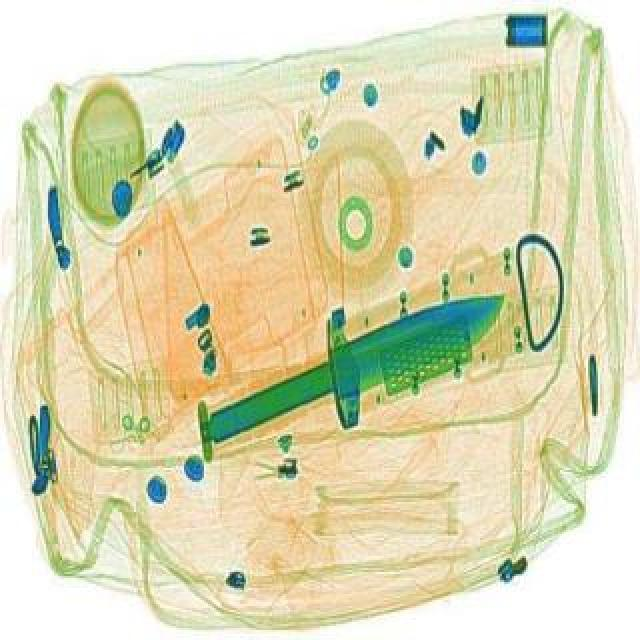knife: (156, 240, 536, 496)
